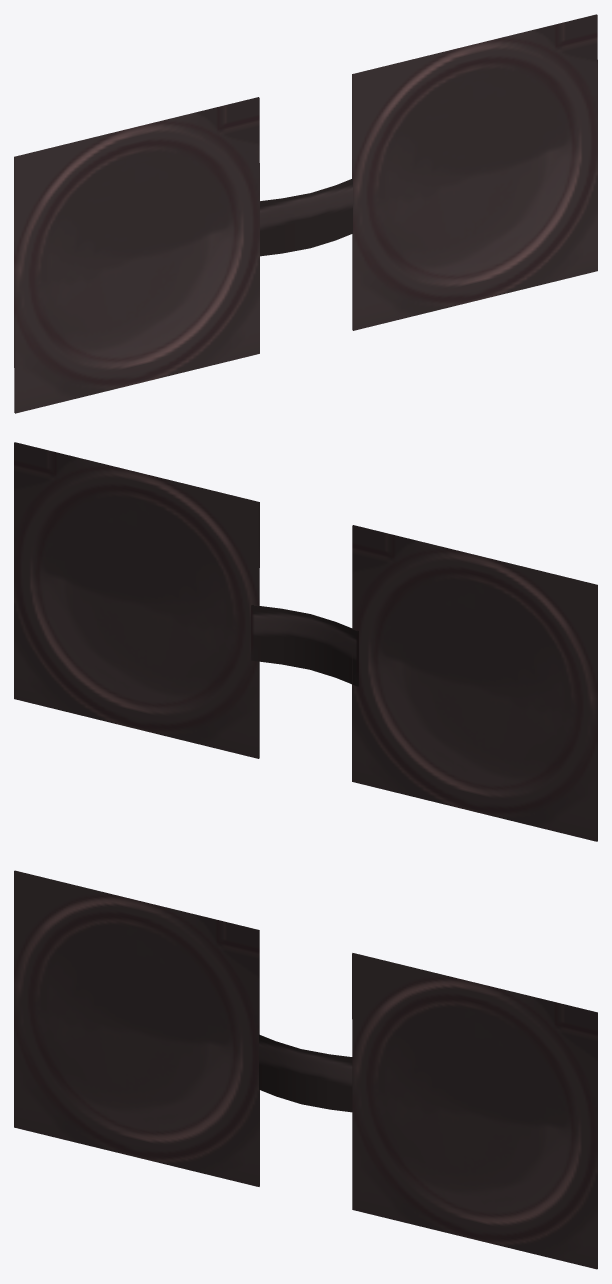
File: Accessory_03.fbx
The picture shows the model from 3 angles, top to bottom: view 1: azimuth 30°, elevation 25°; view 2: azimuth 150°, elevation 25°; view 3: azimuth 330°, elevation 25°; orthographic projection.
Visible parts, largest first — view 1: Mesh_Accessory_03; view 2: Mesh_Accessory_03; view 3: Mesh_Accessory_03.
Part boxes in pixels (x1,y1,x2,y2): Mesh_Accessory_03: (14, 14, 597, 413); Mesh_Accessory_03: (14, 442, 597, 841); Mesh_Accessory_03: (14, 870, 597, 1269).
Bounding box in the file's own units: 25.22 × 10.61 × 0.4585.
1 material, 1 textured.
